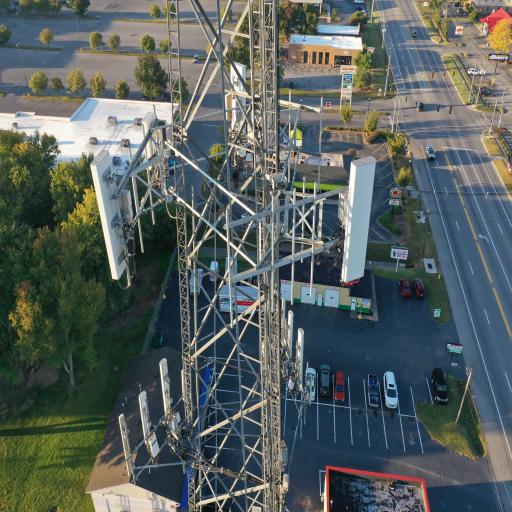supporting_tower: (90, 0, 378, 512)
